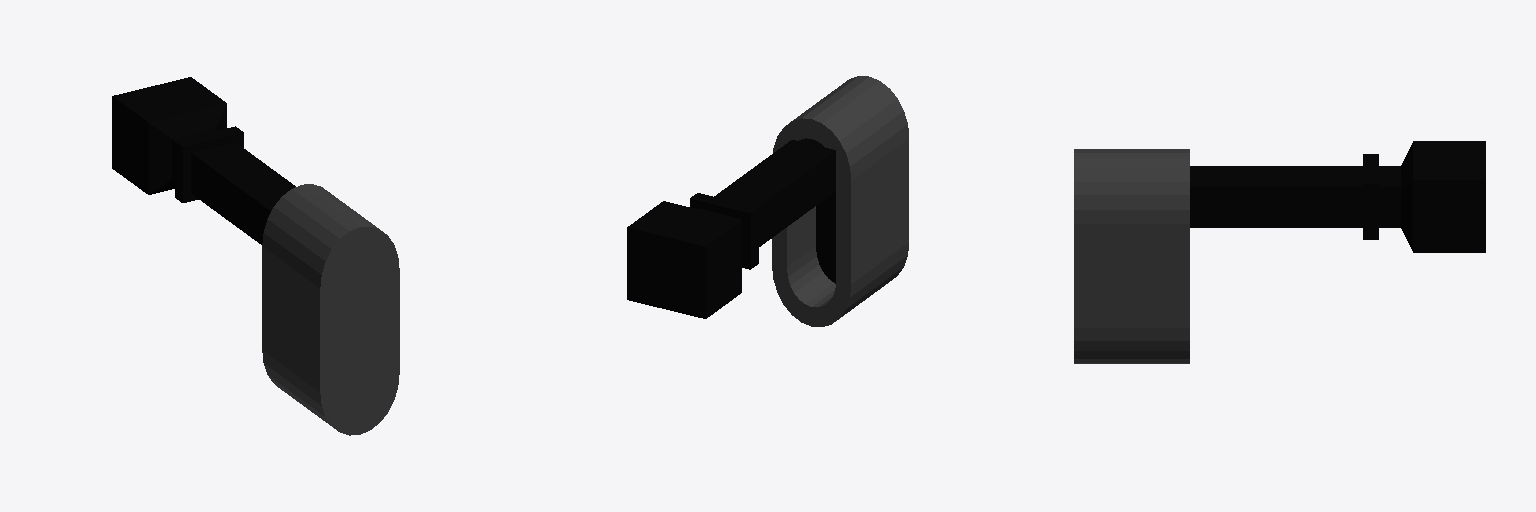
Rendered from stock1.model.obj.
3 renders of one model, left to right at view 1: azimuth 30°, elevation 25°; view 2: azimuth 150°, elevation 25°; view 3: azimuth 270°, elevation 25°, orthographic.
Bounding box in the file's own units: 0.1947 × 0.4733 × 0.85.